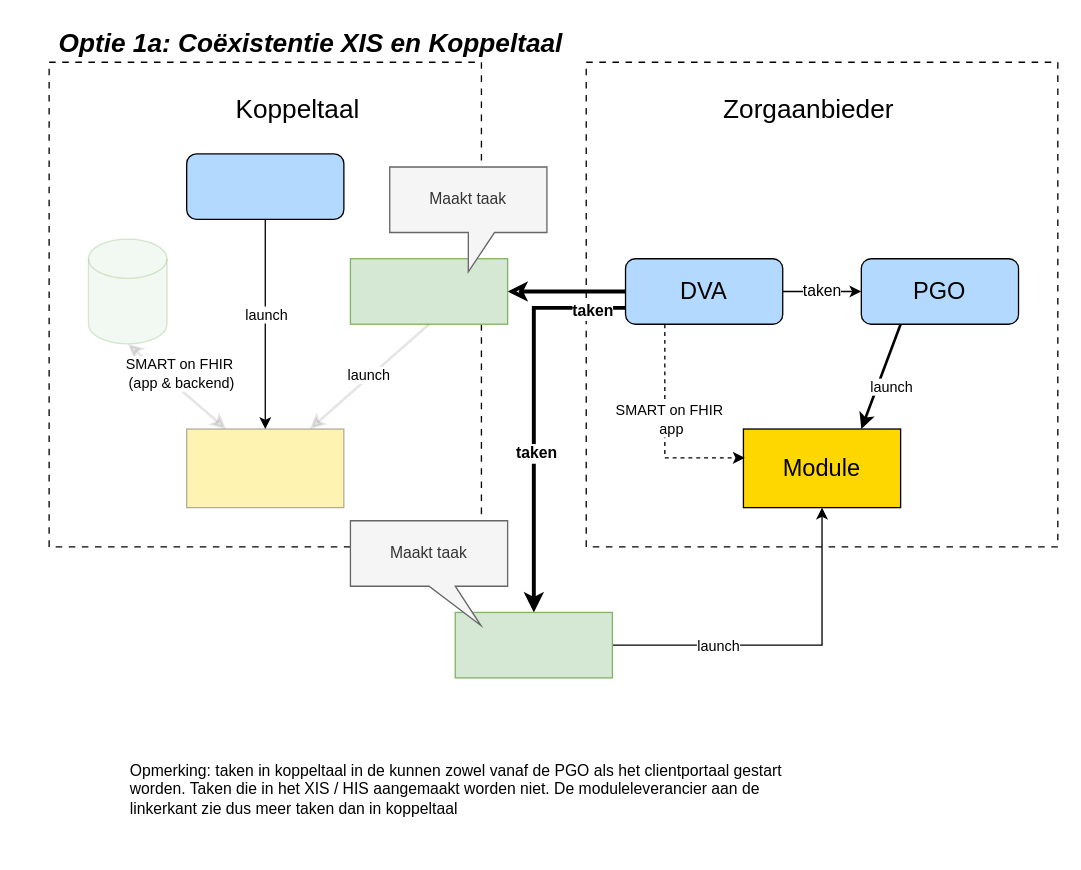
Image size: 1081x870. Some labels were removed from this diagram. The centre of each missing label's shape, as x and y in pixels:
"Behandelportaal" goes at (428,290).
"Clientportaal" goes at (264,186).
"Xis" goes at (533,644).
